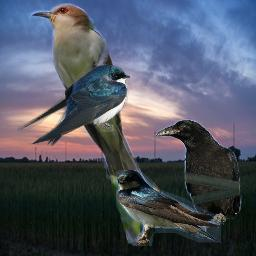Crow: (155, 119, 242, 232)
Cuckoo: (31, 3, 160, 246)
Swallow: (17, 64, 130, 146), (116, 170, 221, 246)
